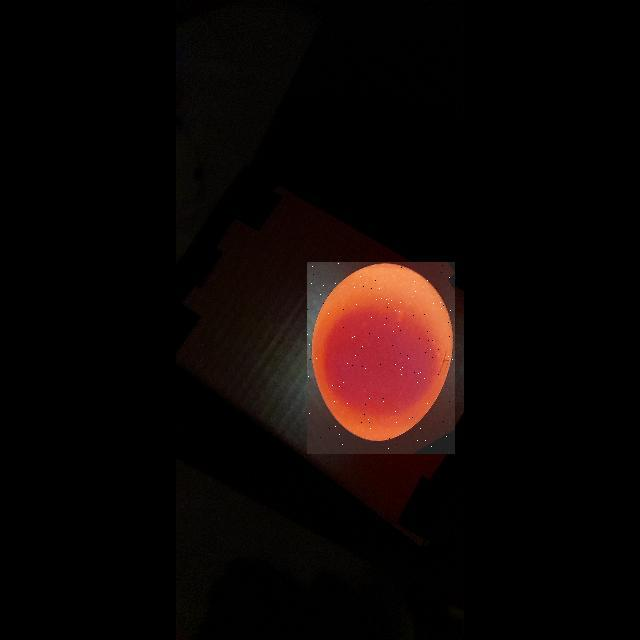Fertile: (307, 262, 455, 454)
